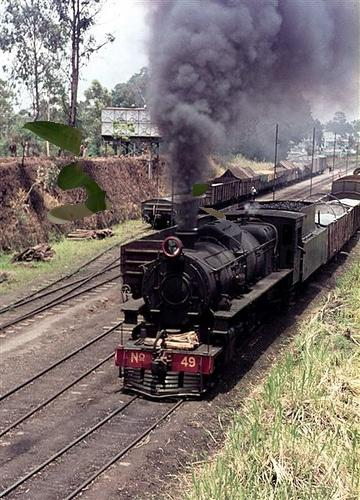tampered: (20, 121, 226, 224)
